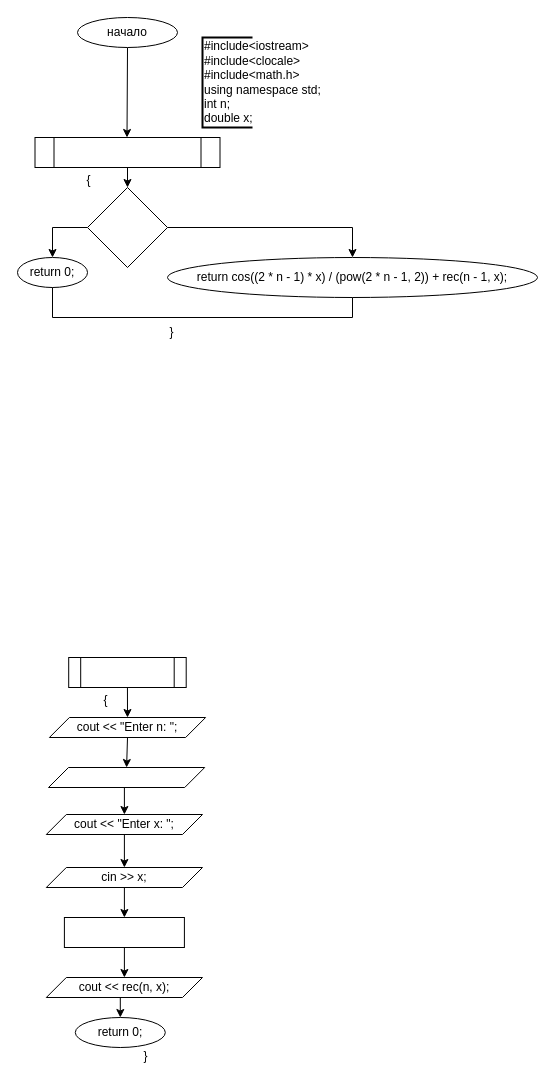
Some shapes in this 555 by 1087 pixel diagram are drawn without their labels. Here are the shapes that lost their labels. From the top down, the box of each, then its label:
(34, 136, 220, 168): double rec(int n, double x)
(86, 186, 168, 268): if (n==0);
(68, 656, 186, 688): int main()
(48, 766, 205, 788): cin >> n;
(63, 916, 184, 948): double su = rec(n, x);
